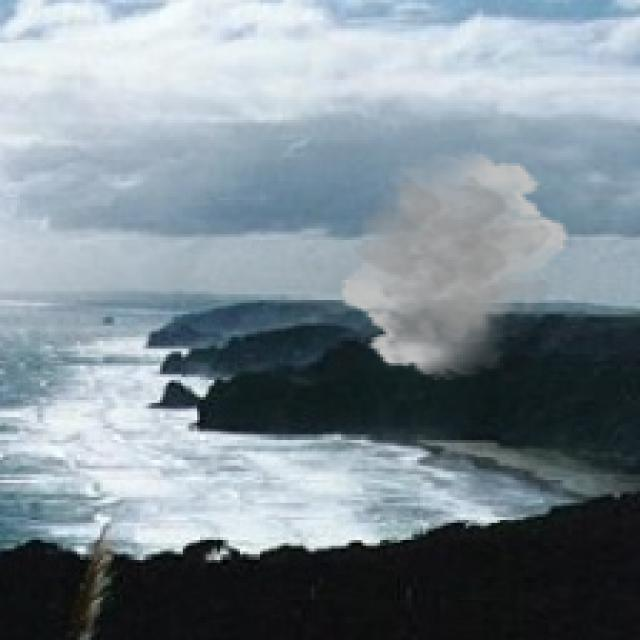Smoke: (337, 148, 572, 380)
